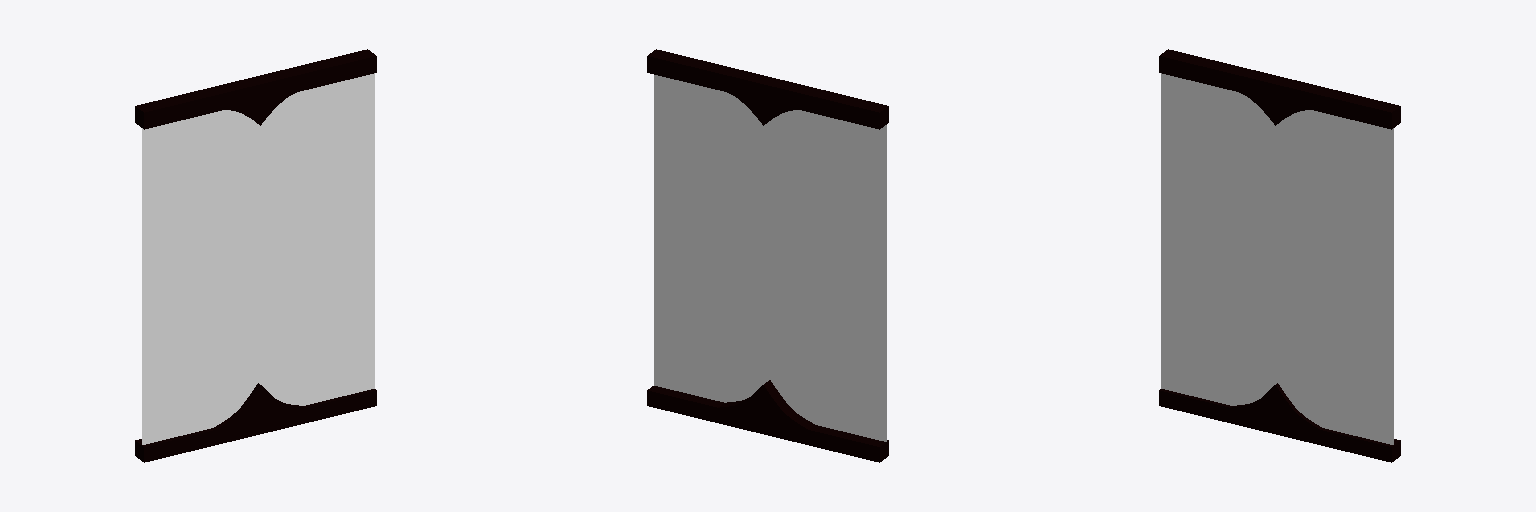
The model's file is gothic_mirror_middle.obj.
The picture shows the model from 3 angles: view 1: azimuth 30°, elevation 25°; view 2: azimuth 150°, elevation 25°; view 3: azimuth 330°, elevation 25°; orthographic projection.
Parts seen in each view (by area): view 1: gothic_mirror_middle; view 2: gothic_mirror_middle; view 3: gothic_mirror_middle.
Boxes of the visible parts, <box> form: gothic_mirror_middle: <box>135,49,376,462</box>; gothic_mirror_middle: <box>647,49,888,462</box>; gothic_mirror_middle: <box>1159,49,1400,462</box>.
Bounding box in the file's own units: 100 × 144 × 6.81.